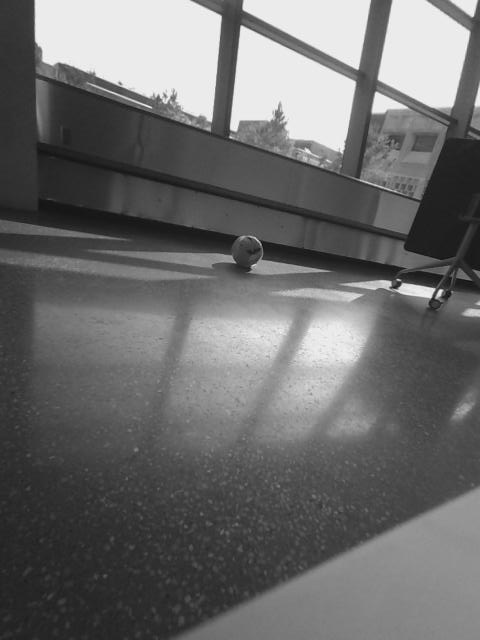ball: (228, 232, 266, 271)
